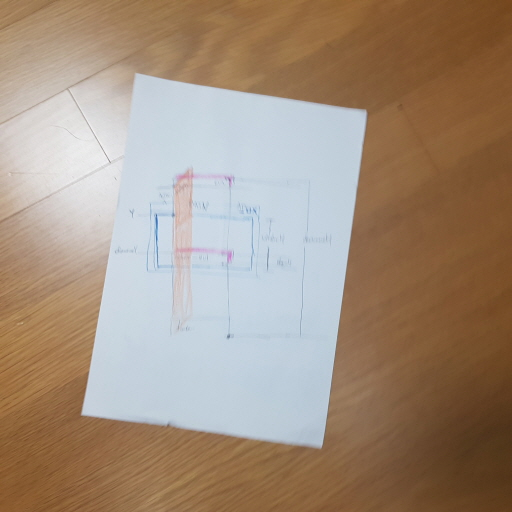Paper_2: (73, 60, 377, 464)
